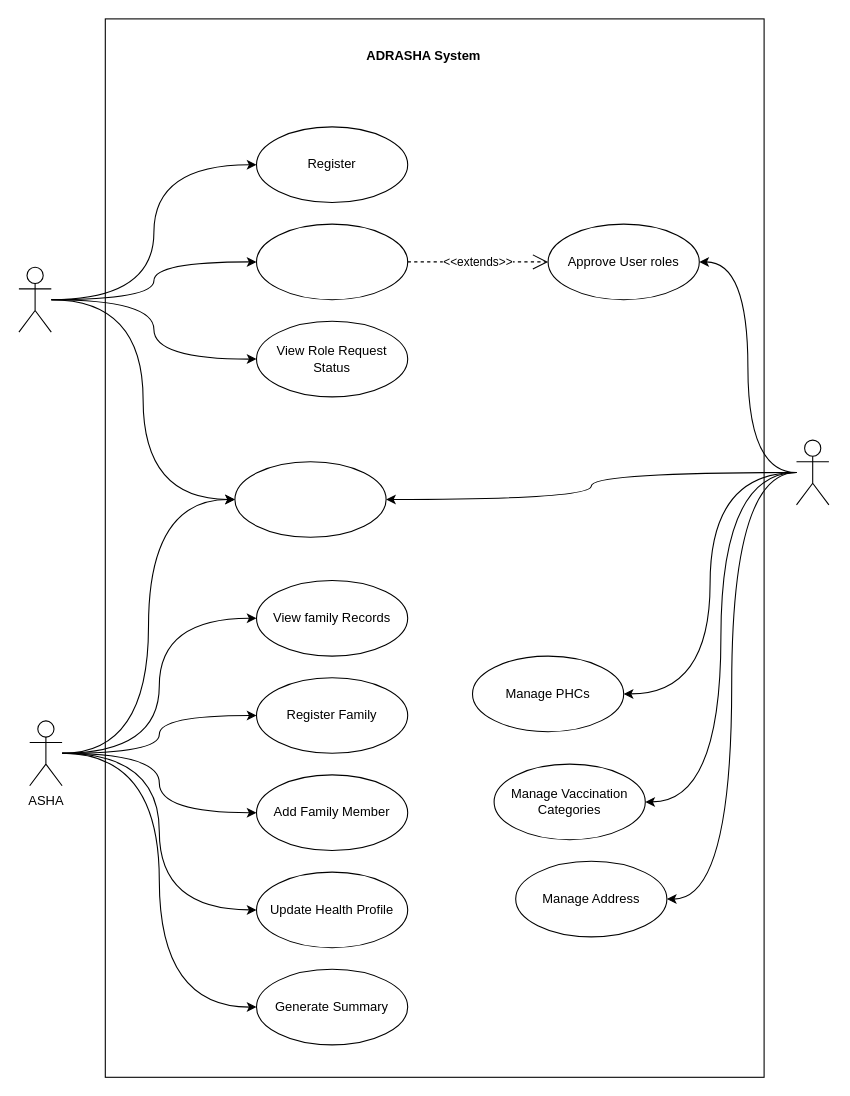
The diagram is 850 pixels wide and 1096 high, and some of its shapes have lost their labels. Here are the shapes that lost their labels. From the top down, the centre of each, then its label:
At (331,261): "Request Role".
At (34,299): "User".
At (812,472): "Admin".
At (310,499): "Login".
